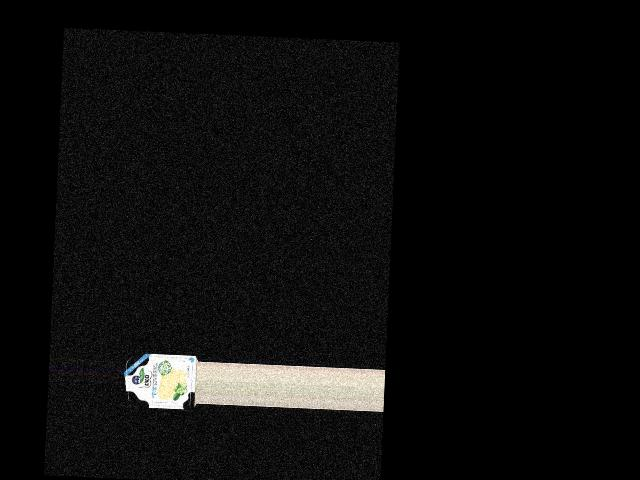cheese: (123, 349, 199, 412)
